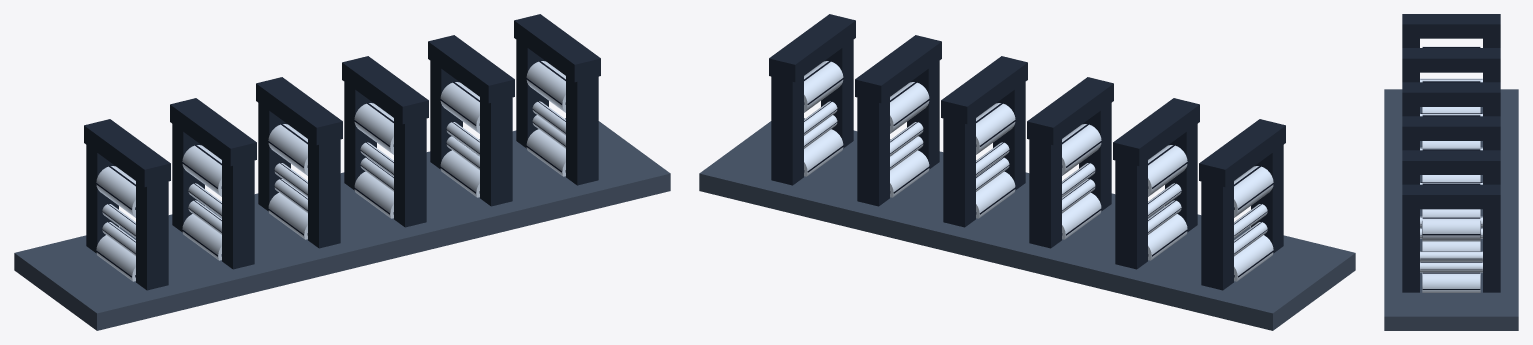
Rendered from finishing_mill_train.glb.
3 renders of one model, left to right at view 1: azimuth 30°, elevation 25°; view 2: azimuth 150°, elevation 25°; view 3: azimuth 270°, elevation 25°, orthographic. The views are drawn at different scales.
Visible parts, largest first — view 1: FinishingMillTrain, FinishingStand_F6, FinishingStand_F1, FinishingStand_F5, FinishingStand_F2, FinishingStand_F4, FinishingStand_F3, F1_TopBackupRoll, F2_TopBackupRoll, F3_TopBackupRoll, F4_TopBackupRoll, F5_TopBackupRoll (+18 smaller); view 2: FinishingMillTrain, FinishingStand_F6, FinishingStand_F1, FinishingStand_F5, FinishingStand_F2, FinishingStand_F4, FinishingStand_F3, F1_TopBackupRoll, F2_TopBackupRoll, F3_TopBackupRoll, F4_TopBackupRoll, F5_TopBackupRoll (+18 smaller); view 3: FinishingMillTrain, FinishingStand_F6, FinishingStand_F2, FinishingStand_F3, FinishingStand_F4, FinishingStand_F5, FinishingStand_F1, F6_TopBackupRoll, F6_BotBackupRoll, F6_TopWorkRoll, F6_BotWorkRoll, F5_BotBackupRoll (+13 smaller).
Boxes of the visible parts, x1,y1,x2,y2 form: FinishingMillTrain: (14, 118, 670, 330); FinishingStand_F6: (514, 14, 600, 185); FinishingStand_F1: (84, 119, 170, 290); FinishingStand_F5: (428, 35, 514, 206); FinishingStand_F2: (170, 98, 256, 269); FinishingStand_F4: (342, 56, 428, 227); FinishingStand_F3: (256, 77, 342, 248); F1_TopBackupRoll: (96, 166, 135, 217); F2_TopBackupRoll: (182, 145, 221, 196); F3_TopBackupRoll: (268, 124, 307, 175); F4_TopBackupRoll: (354, 103, 393, 154); F5_TopBackupRoll: (440, 82, 479, 133); FinishingMillTrain: (699, 118, 1355, 330); FinishingStand_F6: (769, 14, 855, 185); FinishingStand_F1: (1199, 119, 1285, 290); FinishingStand_F5: (855, 35, 941, 206); FinishingStand_F2: (1113, 98, 1199, 269); FinishingStand_F4: (941, 56, 1027, 227); FinishingStand_F3: (1027, 77, 1113, 248); F1_TopBackupRoll: (1234, 166, 1273, 217); F2_TopBackupRoll: (1148, 145, 1187, 196); F3_TopBackupRoll: (1062, 124, 1101, 175); F4_TopBackupRoll: (976, 103, 1015, 154); F5_TopBackupRoll: (890, 82, 929, 133); FinishingMillTrain: (1384, 89, 1518, 330); FinishingStand_F6: (1402, 184, 1500, 292); FinishingStand_F2: (1402, 48, 1500, 82); FinishingStand_F3: (1402, 82, 1500, 116); FinishingStand_F4: (1402, 116, 1500, 150); FinishingStand_F5: (1402, 150, 1500, 184); FinishingStand_F1: (1402, 14, 1500, 47); F6_TopBackupRoll: (1422, 217, 1480, 241); F6_BotBackupRoll: (1422, 272, 1480, 292); F6_TopWorkRoll: (1420, 251, 1482, 261); F6_BotWorkRoll: (1420, 262, 1482, 272); F5_BotBackupRoll: (1422, 241, 1480, 251).
Bounding box in the file's own units: 24 × 5.55 × 6.
